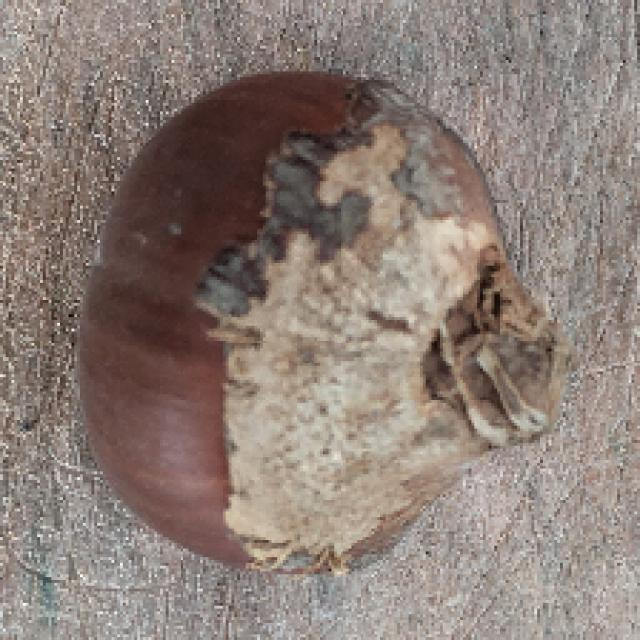DamagedHazelnut: (75, 68, 575, 584)
